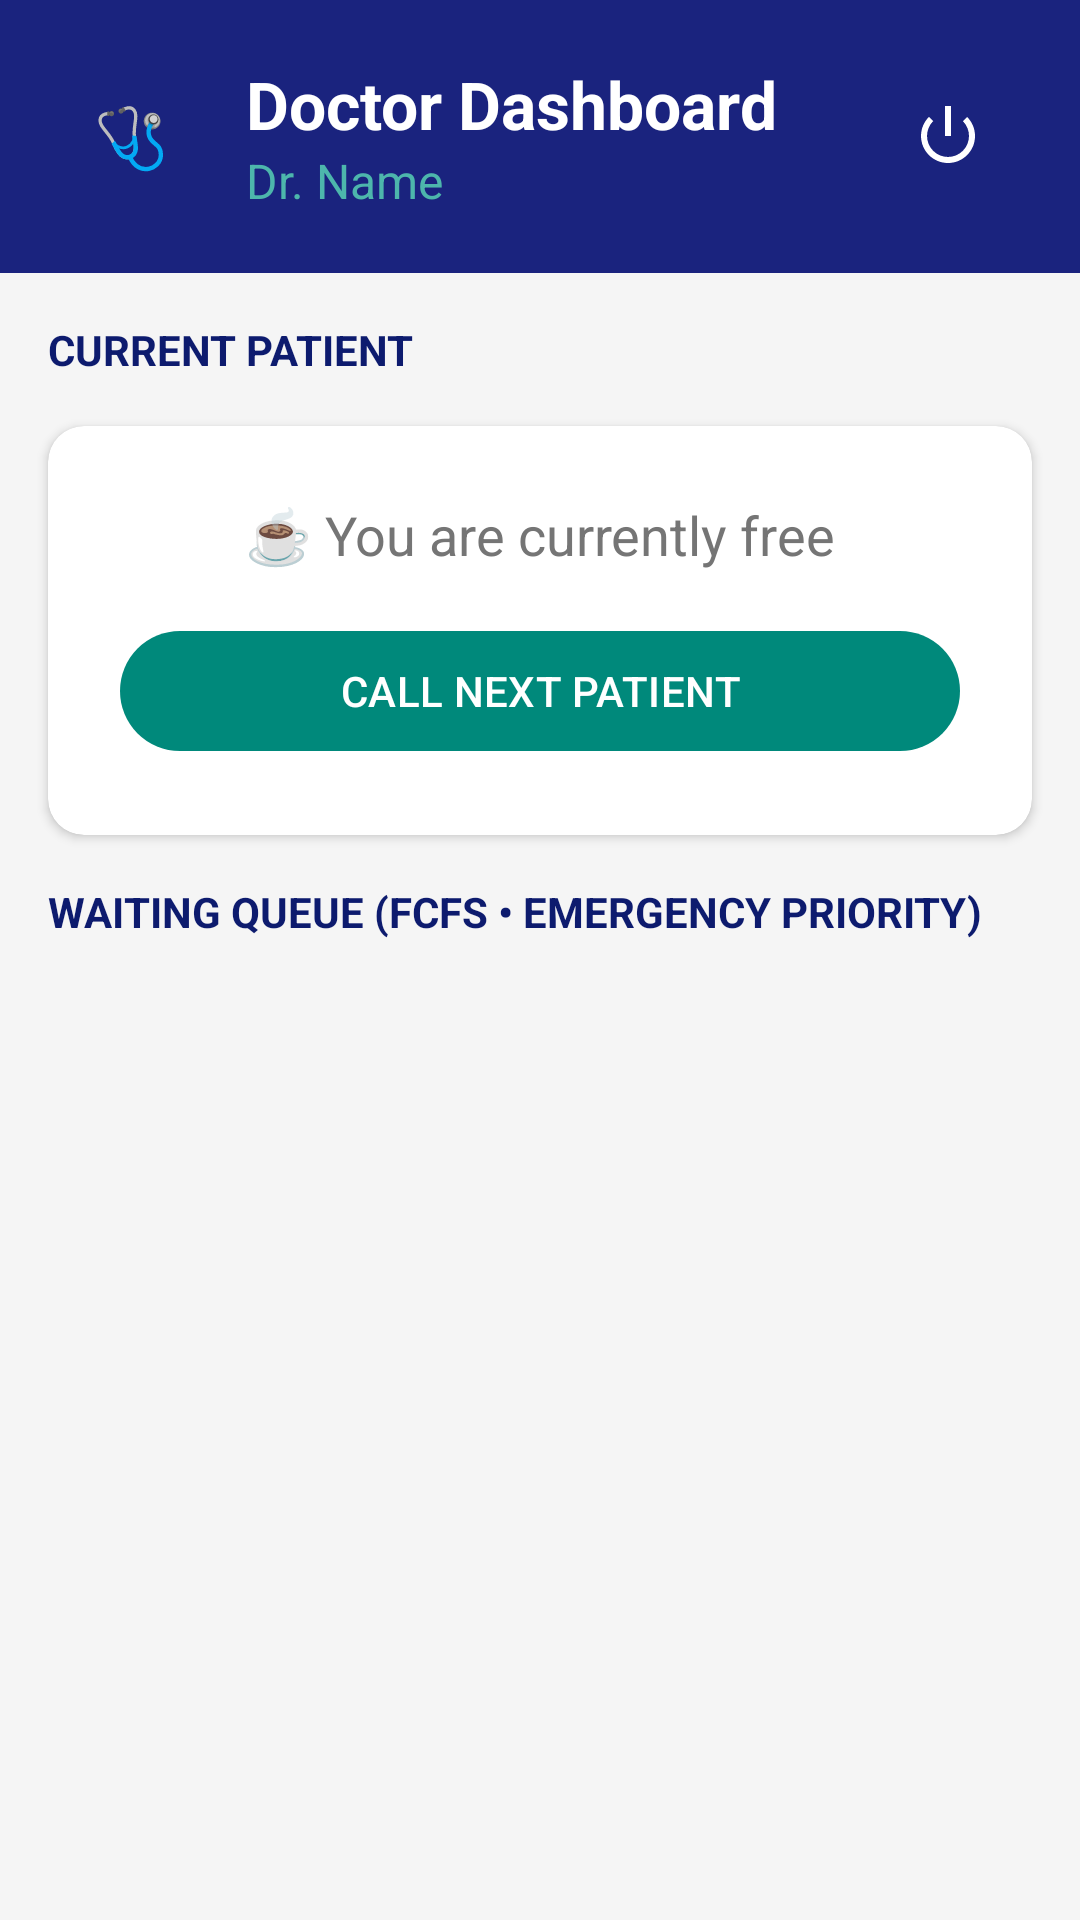

Named icons in this screenshot (1080px×1920px) and their bounding boxes, [x1=x1, y1=y1, x2=x2, y2=y2]:
lock power off: [x1=921, y1=106, x2=975, y2=163]
